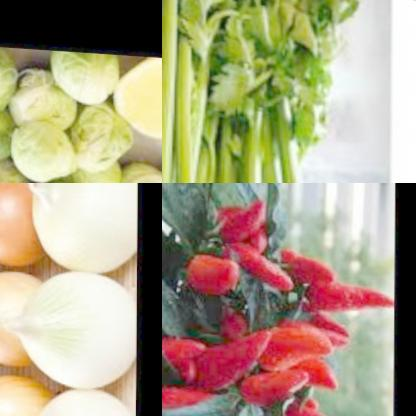brus capusta: (0, 41, 137, 183)
celery: (219, 0, 368, 183), (162, 0, 259, 183)
hot pepper: (190, 321, 272, 396), (298, 267, 395, 315), (254, 322, 335, 374), (245, 356, 310, 408), (302, 298, 363, 349), (162, 385, 253, 416), (191, 247, 244, 299), (219, 191, 270, 245), (282, 240, 340, 283), (162, 332, 206, 372), (282, 387, 342, 416)
onion: (7, 269, 135, 390), (31, 183, 136, 272), (17, 376, 134, 416), (0, 261, 41, 374), (0, 183, 46, 267)
